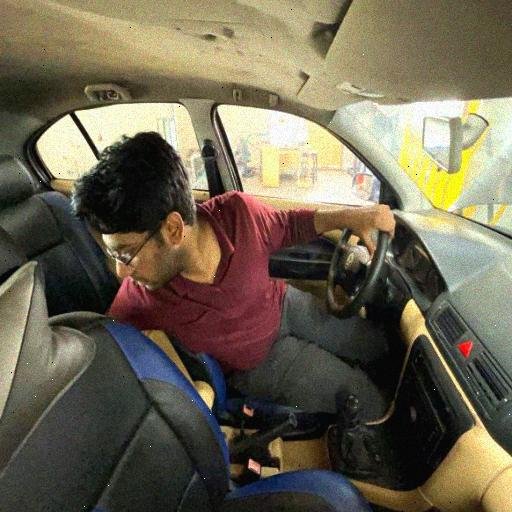Reaching_behind: (72, 131, 398, 391)
